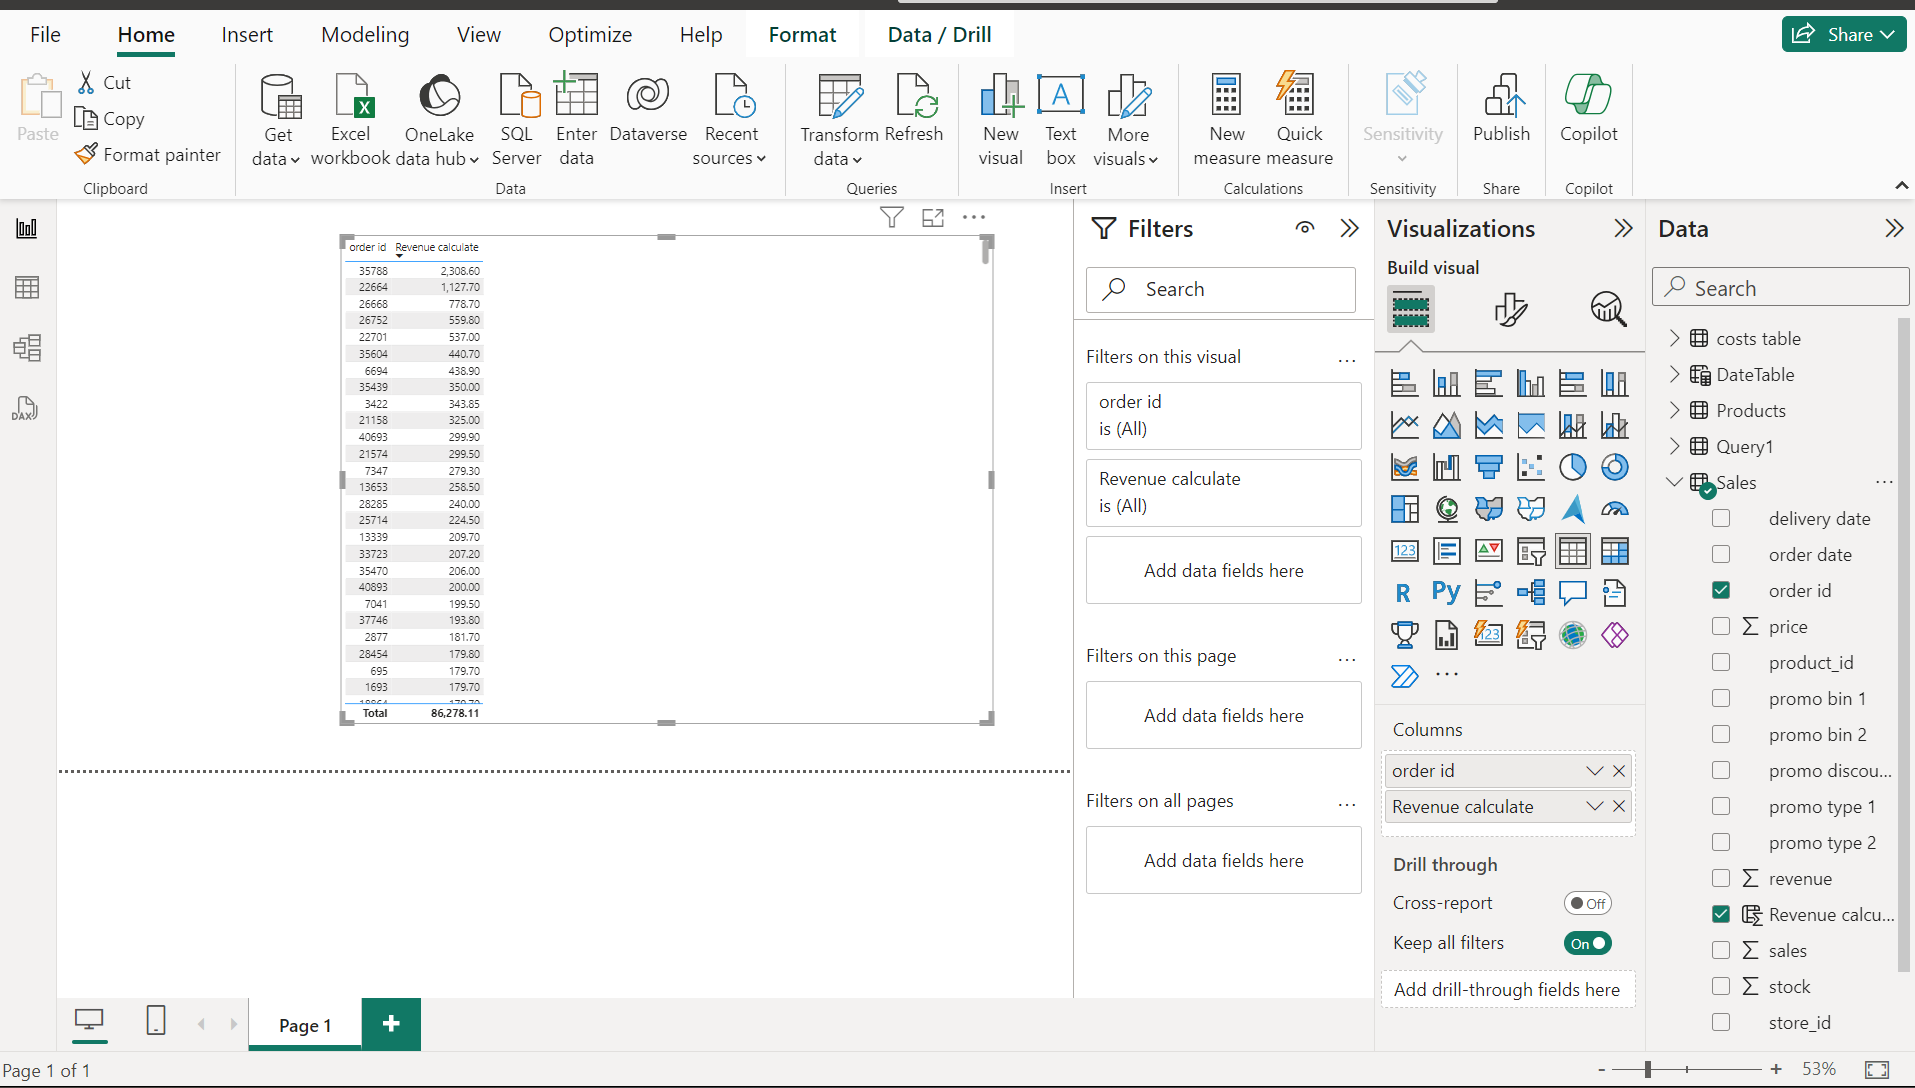

The dashboard page shown, as its layout file describes it:
{"tool":"powerbi","page":{"name":"Details Page","canvas":[1280,720],"ordinal":4},"visuals":[{"type":"tableEx","fields":{"Values":["Sales.order id","Sales.order date","Sales.Revenue measure","Stores.state","Stores.city"]},"box":[312.5,81.8,656.1,429.3],"z":0},{"type":"card","fields":{"Values":["Sales.Revenue measure"]},"box":[490.6,518.8,299.8,186.9],"z":1000},{"type":"actionButton","box":[0,0,100,40],"z":2000}]}

Visuals, with their boxes on the page's 1280x720 design canvas (x1, y1, x2, y2). These are canvas units, not pixel positions in the 1915x1088 screenshot, which may show the page scaled, cropped or inside an application window:
tableEx - Sales.order id x Sales.order date: bbox=(312, 82, 969, 511)
card - Sales.Revenue measure: bbox=(491, 519, 790, 706)
actionButton: bbox=(0, 0, 100, 40)
